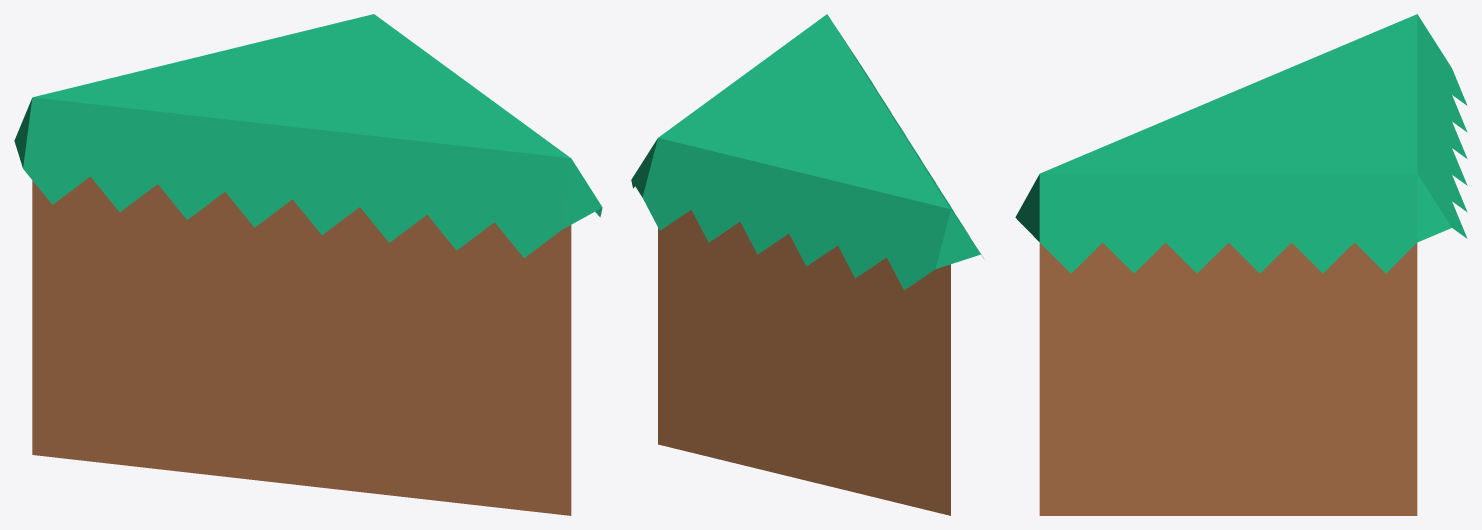
The model's file is blockCornerLarge.obj.
The picture shows the model from 3 angles, left to right: view 1: azimuth 30°, elevation 25°; view 2: azimuth 150°, elevation 25°; view 3: azimuth 270°, elevation 25°; orthographic projection. The views are drawn at different scales.
Visible parts, largest first — view 1: blockCornerLarge; view 2: blockCornerLarge; view 3: blockCornerLarge.
Boxes of the visible parts, x1,y1,x2,y2 form: blockCornerLarge: [14, 14, 602, 515]; blockCornerLarge: [631, 14, 983, 515]; blockCornerLarge: [1015, 14, 1467, 515].
Bounding box in the file's own units: 1.2 × 1 × 1.2.
